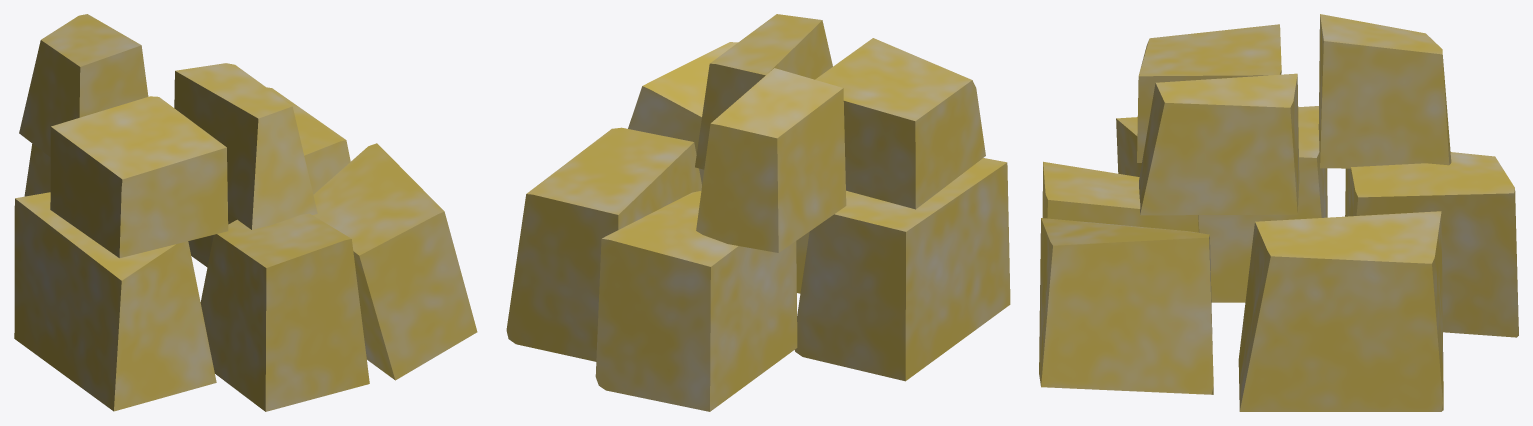
File: potato.glb
The picture shows the model from 3 angles, left to right: view 1: azimuth 30°, elevation 25°; view 2: azimuth 150°, elevation 25°; view 3: azimuth 270°, elevation 25°; orthographic projection. The views are drawn at different scales.
Visible parts, largest first — view 1: polySurface69; view 2: polySurface69; view 3: polySurface69.
Part boxes in pixels (x1,y1,x2,y2): polySurface69: (14,14,477,411); polySurface69: (506,14,1010,411); polySurface69: (1039,14,1518,411).
Bounding box in the file's own units: 0.00944 × 0.00695 × 0.011.
Materials: 1 (1 with a texture image).
